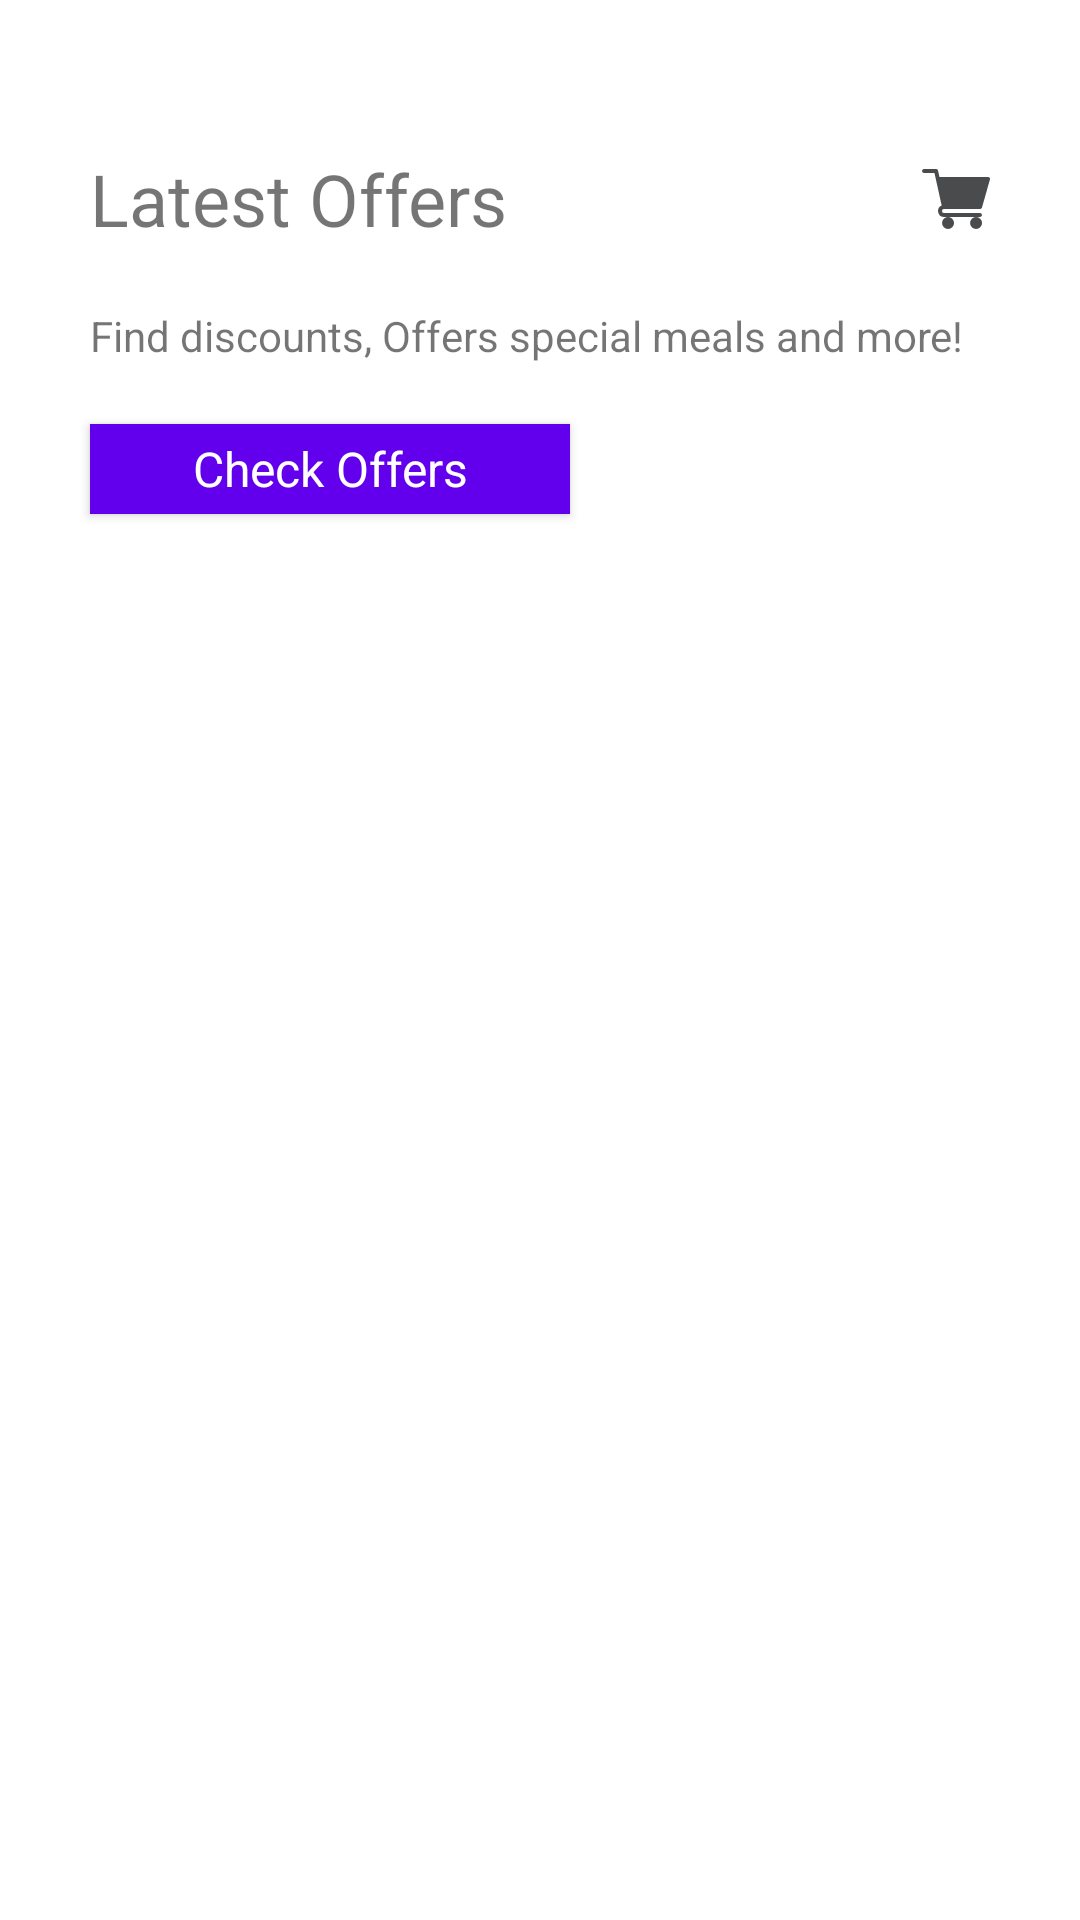

Icons on this 1080px×1920px Android screen, each with the point to tap as (x,y):
shopping cart: (956,199)
